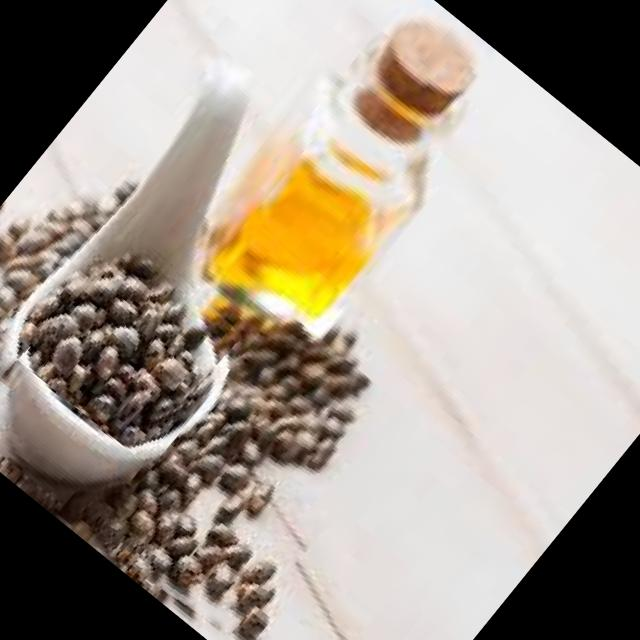Organic: (89, 307, 424, 640), (12, 221, 252, 461), (0, 127, 162, 446)
